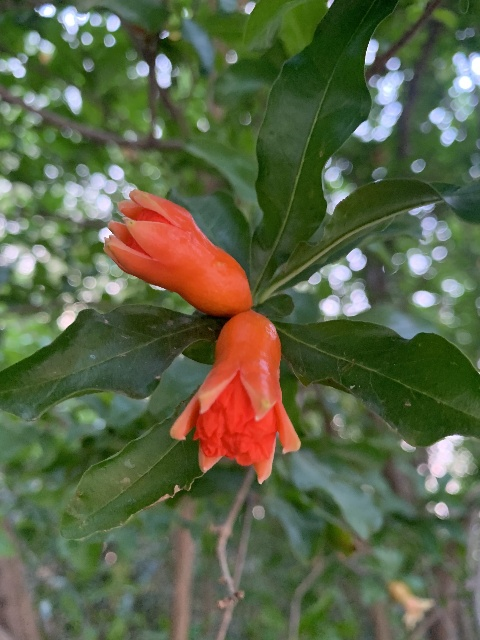early-fruit: (387, 580, 435, 630)
flower: (170, 309, 300, 481), (103, 189, 251, 317)
